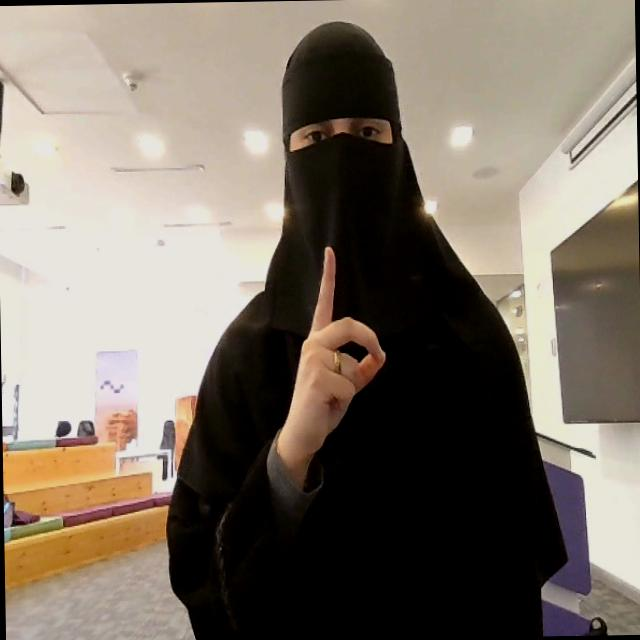emergency: (274, 243, 388, 459)
